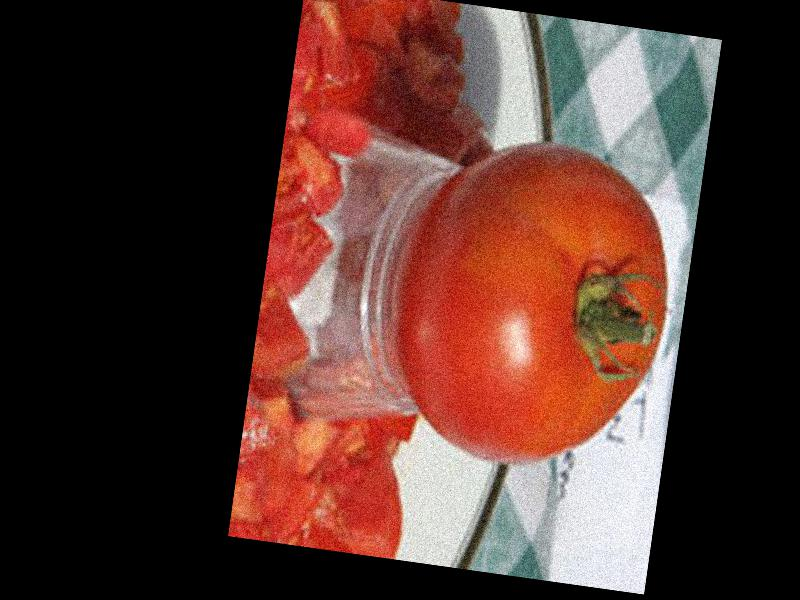Tomato: (378, 124, 689, 485)
